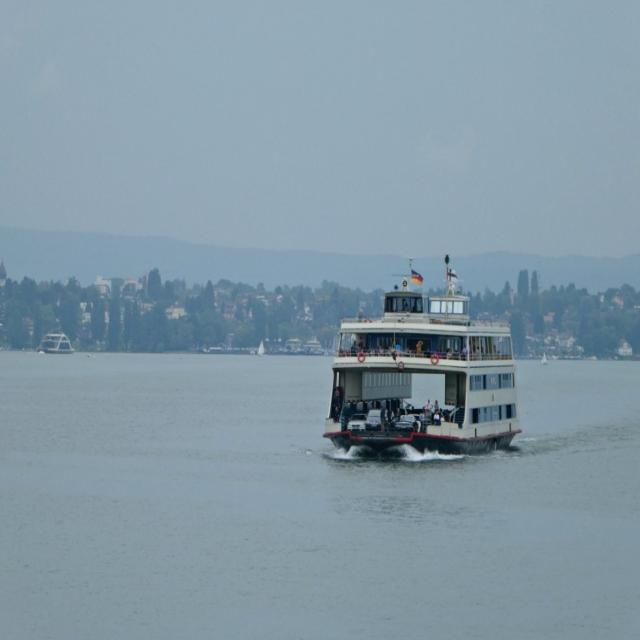passenger ship: (323, 264, 524, 461)
